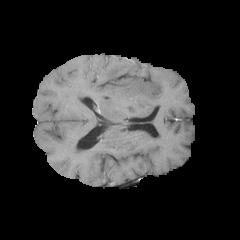glioma: (63, 64, 157, 102)
